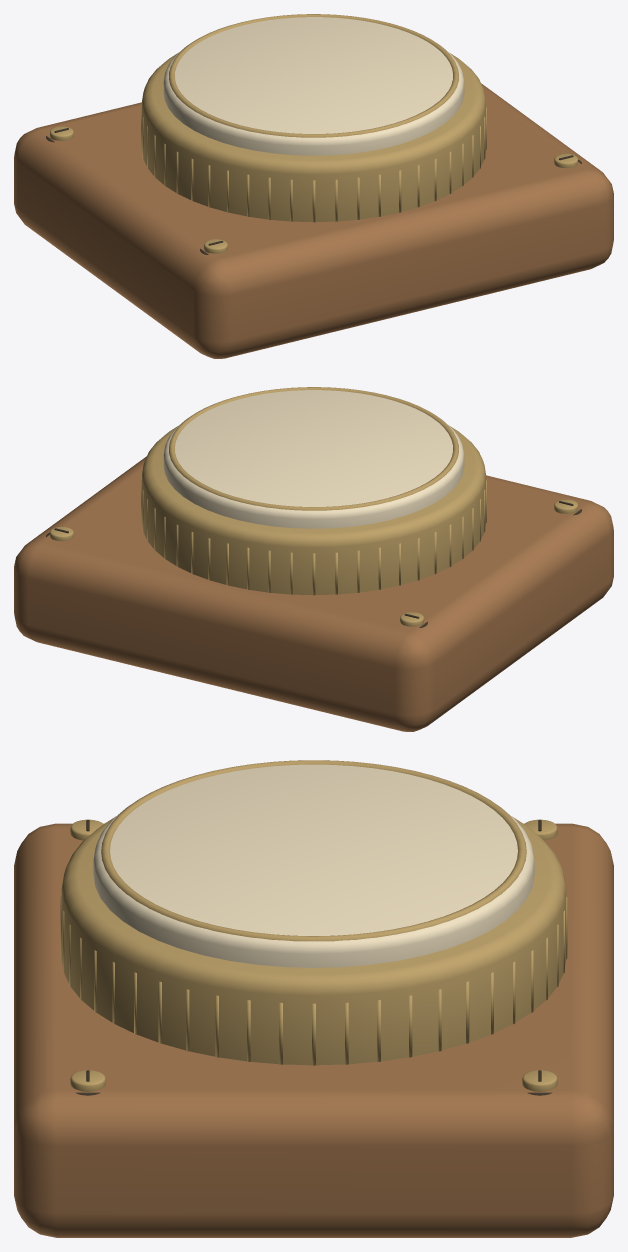
The model's file is button_base.glb.
The picture shows the model from 3 angles, top to bottom: view 1: azimuth 30°, elevation 25°; view 2: azimuth 150°, elevation 25°; view 3: azimuth 270°, elevation 25°; orthographic projection. The views are drawn at different scales.
Parts seen in each view (by area): view 1: V15_HoneyOak.002, V15_CreamPaint.001, V15_BrushedBrass.002; view 2: V15_HoneyOak.002, V15_CreamPaint.001, V15_BrushedBrass.002; view 3: V15_HoneyOak.002, V15_CreamPaint.001, V15_BrushedBrass.002.
Part boxes in pixels (x1=…): V15_HoneyOak.002: x1=14, y1=83, x2=613, y2=358; V15_CreamPaint.001: x1=163, y1=17, x2=464, y2=155; V15_BrushedBrass.002: x1=50, y1=14, x2=577, y2=253; V15_HoneyOak.002: x1=14, y1=456, x2=613, y2=731; V15_CreamPaint.001: x1=163, y1=390, x2=464, y2=528; V15_BrushedBrass.002: x1=50, y1=387, x2=577, y2=626; V15_HoneyOak.002: x1=14, y1=823, x2=613, y2=1237; V15_CreamPaint.001: x1=93, y1=764, x2=534, y2=967; V15_BrushedBrass.002: x1=60, y1=760, x2=567, y2=1091.
Size of the model in its own units: 0.4 by 0.159 by 0.34.
